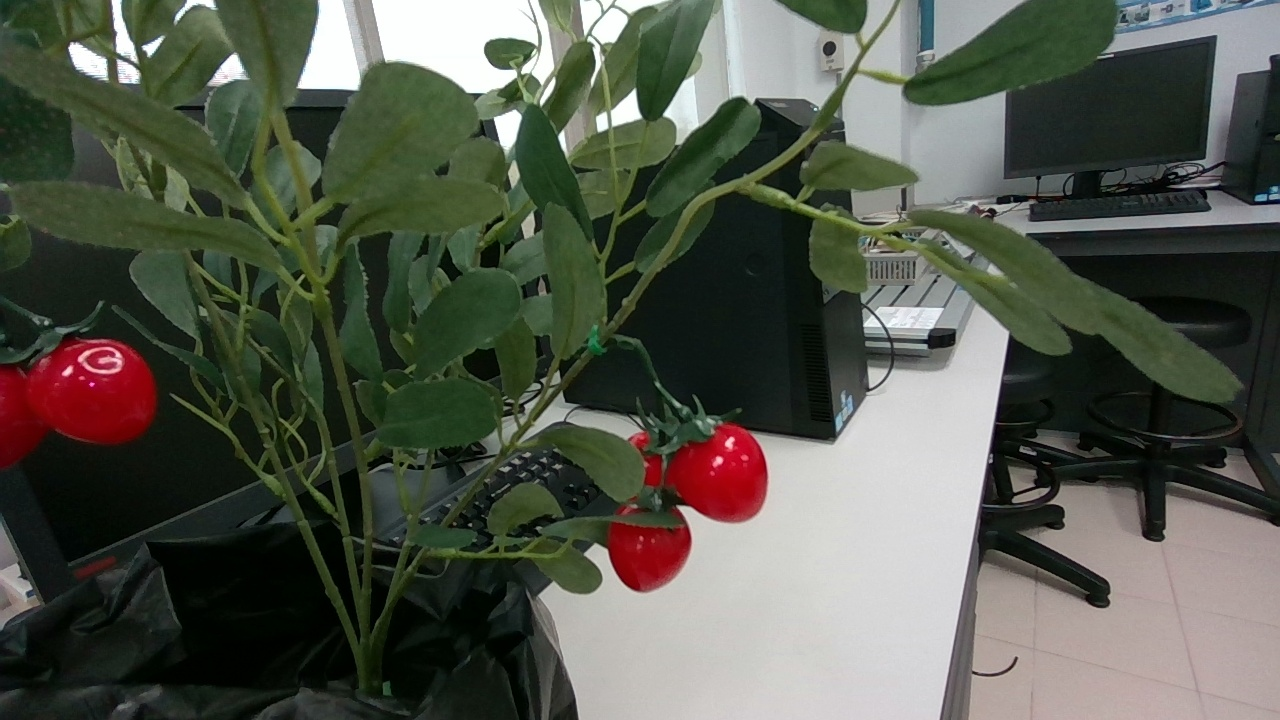peduncle: (618, 335, 658, 383)
strawberry: (24, 338, 155, 444), (666, 423, 769, 522), (608, 523, 692, 592), (0, 364, 46, 468), (629, 430, 663, 487)
